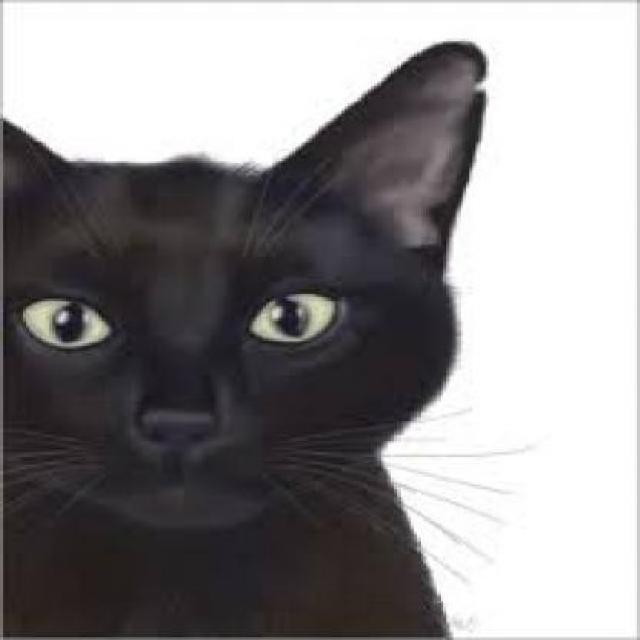animals: (7, 37, 496, 632)
